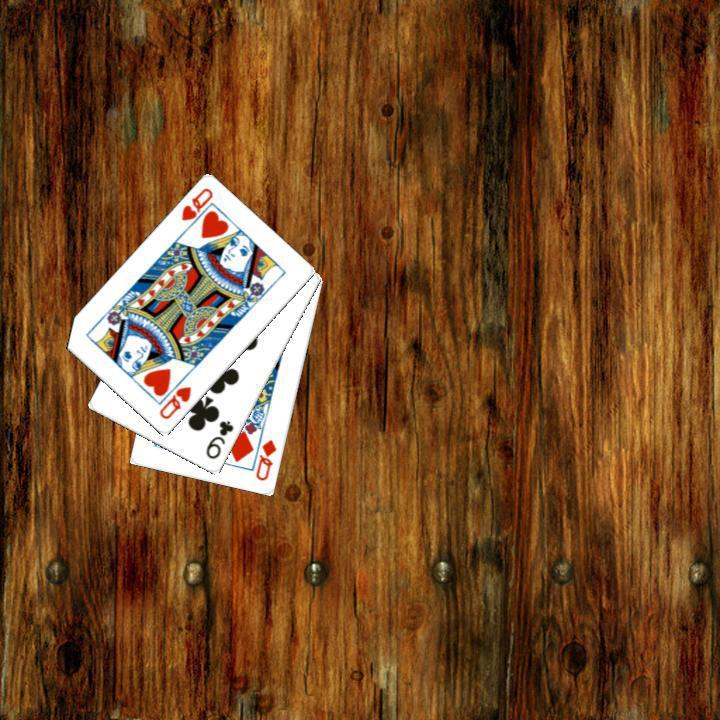9: (201, 416, 236, 462)
Q: (177, 184, 216, 234), (155, 382, 193, 422), (251, 435, 279, 483)
